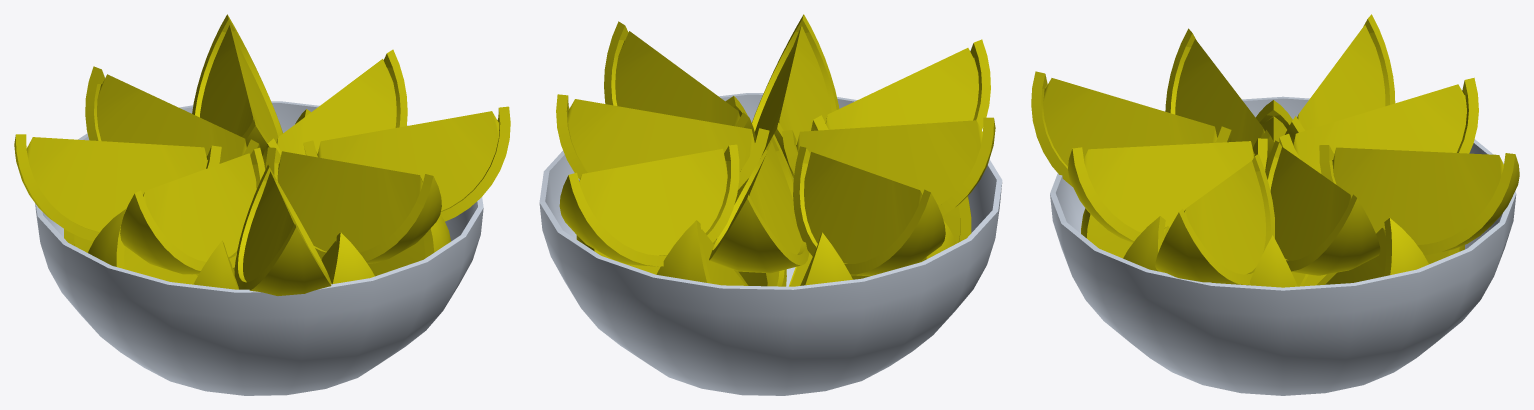
File: BowlOfLemons.fbx
3 views of the same model, side by side, from view 1: azimuth 30°, elevation 25°; view 2: azimuth 150°, elevation 25°; view 3: azimuth 270°, elevation 25° (orthographic). The views are drawn at different scales.
Visible parts, largest first — view 1: bowl, lemonWedge14, lemonWedge11, lemonWedge12, lemonWedge15, lemonWedge13, lemonWedge10, lemonWedge9, lemonWedge8, lemonWedge4, lemonWedge6, lemonWedge7 (+1 smaller); view 2: bowl, lemonWedge9, lemonWedge11, lemonWedge12, lemonWedge8, lemonWedge13, lemonWedge10, lemonWedge15, lemonWedge14, lemonWedge2, lemonWedge3, lemonWedge7 (+1 smaller); view 3: bowl, lemonWedge9, lemonWedge14, lemonWedge15, lemonWedge8, lemonWedge13, lemonWedge10, lemonWedge11, lemonWedge12, lemonWedge1, lemonWedge, lemonWedge7 (+2 smaller).
Boxes of the visible parts, x1,y1,x2,y2 form: bowl: [35, 101, 483, 395]; lemonWedge14: [266, 147, 441, 263]; lemonWedge11: [14, 134, 221, 241]; lemonWedge12: [120, 148, 265, 274]; lemonWedge15: [303, 106, 510, 221]; lemonWedge13: [234, 165, 331, 295]; lemonWedge10: [85, 66, 259, 163]; lemonWedge9: [192, 14, 282, 156]; lemonWedge8: [262, 49, 407, 169]; lemonWedge4: [88, 208, 197, 284]; lemonWedge6: [321, 232, 374, 284]; lemonWedge7: [368, 215, 451, 276]; bowl: [539, 93, 1002, 395]; lemonWedge9: [559, 144, 739, 266]; lemonWedge11: [793, 146, 945, 276]; lemonWedge12: [782, 117, 995, 216]; lemonWedge8: [556, 94, 769, 189]; lemonWedge13: [811, 39, 990, 130]; lemonWedge10: [709, 134, 809, 273]; lemonWedge15: [604, 21, 755, 141]; lemonWedge14: [752, 14, 839, 177]; lemonWedge2: [656, 220, 745, 285]; lemonWedge3: [800, 232, 852, 285]; lemonWedge7: [716, 96, 786, 286]; bowl: [1050, 96, 1516, 395]; lemonWedge9: [1319, 145, 1519, 255]; lemonWedge14: [1068, 138, 1267, 242]; lemonWedge15: [1155, 154, 1274, 285]; lemonWedge8: [1265, 140, 1380, 275]; lemonWedge13: [1031, 71, 1231, 186]; lemonWedge10: [1279, 77, 1478, 173]; lemonWedge11: [1285, 14, 1395, 144]; lemonWedge12: [1165, 28, 1274, 169]; lemonWedge1: [1325, 218, 1428, 284]; lemonWedge: [1248, 235, 1297, 287]; lemonWedge7: [1123, 216, 1169, 271].
Bounding box in the file's own units: 0.8946 × 0.4973 × 0.9157.
